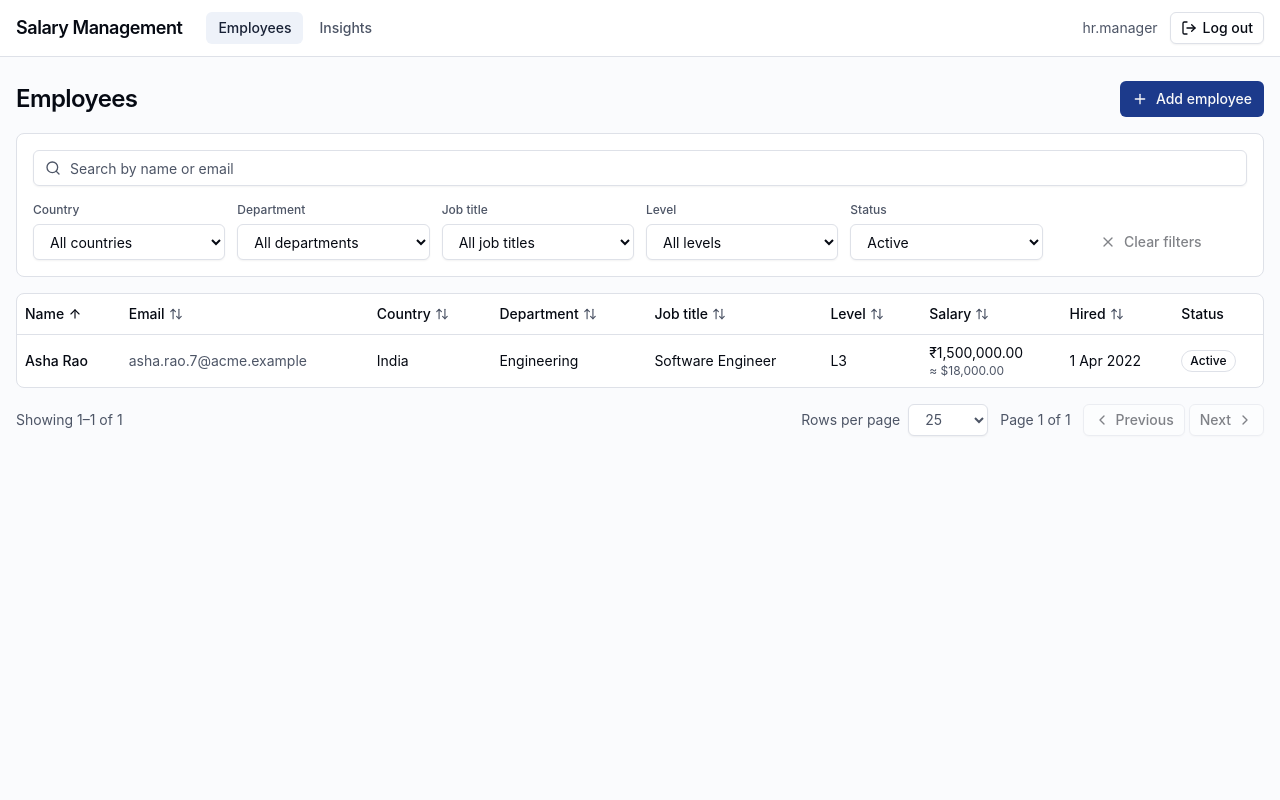
Test: add employee form › is reached from the directory
What coordinates should you click on to do the following:
click the link "Add employee"
I would click on:
 (1192, 99)
Its box is 1120,81 -> 1264,117.
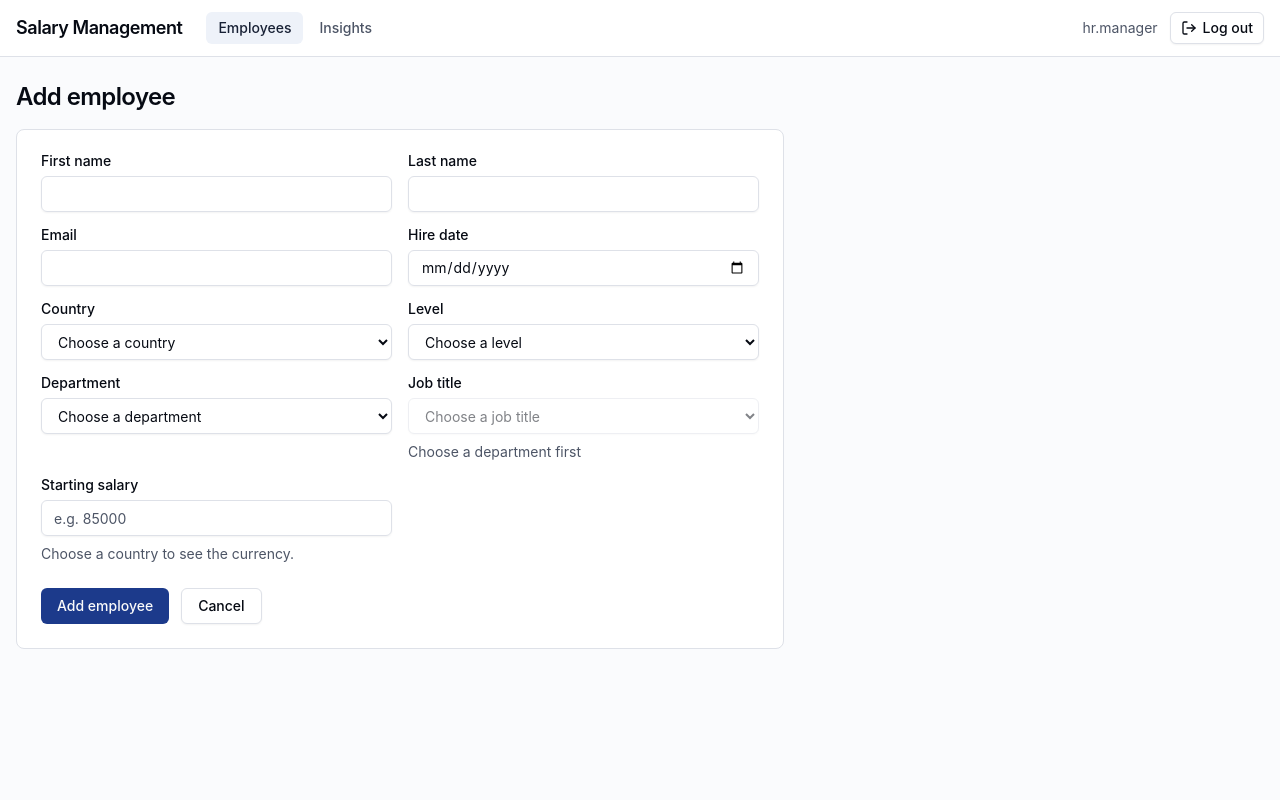
Expected: the heading "Add employee" is shown, 16,82 -> 175,111
